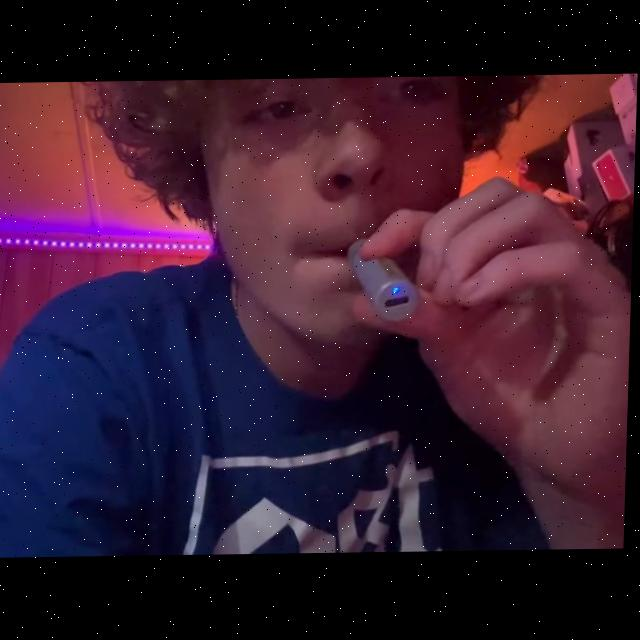vape: (347, 237, 424, 324)
